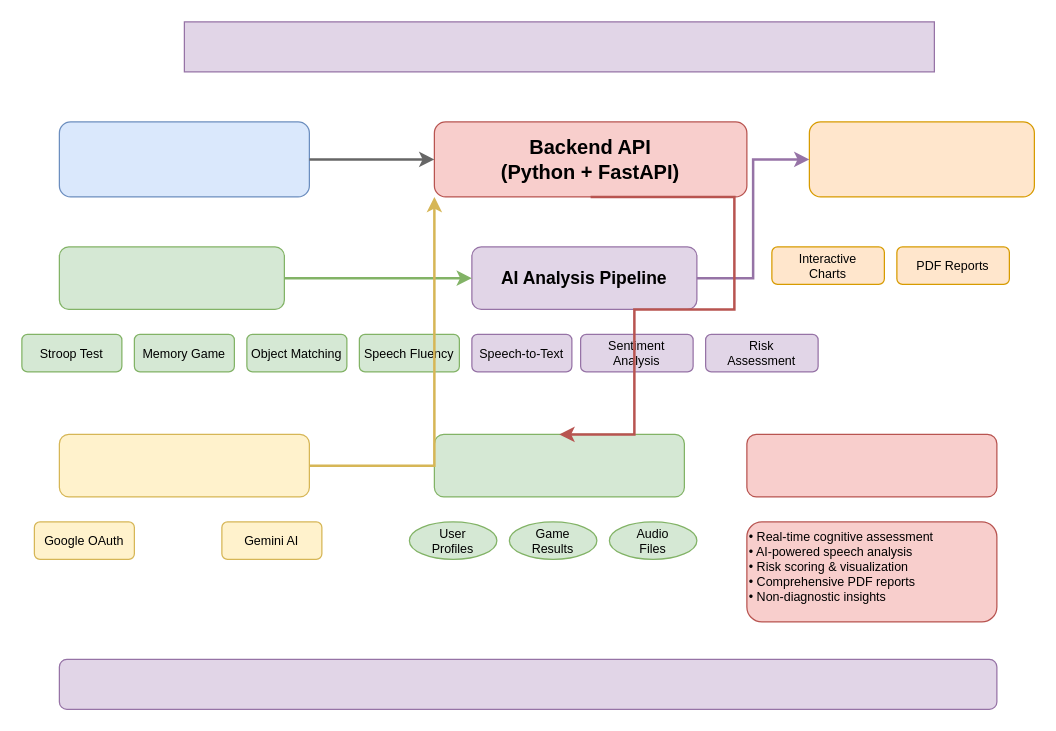
Image size: 1056x731. Some labels were removed from this diagram. Each missing label, with the centre of its shape:
Cognitive Games Suite: (x=171, y=277)
Dashboard & Analytics: (x=921, y=159)
Data Storage: (x=558, y=465)
External Services: (x=183, y=465)
ForeKnow - Dementia Early Detection System: (x=558, y=46)
Frontend (Next.js + React): (x=183, y=159)
Key Features: (x=871, y=465)
User Flow: Login → Play Games → AI Analysis → View Results → Download Report: (x=527, y=683)
